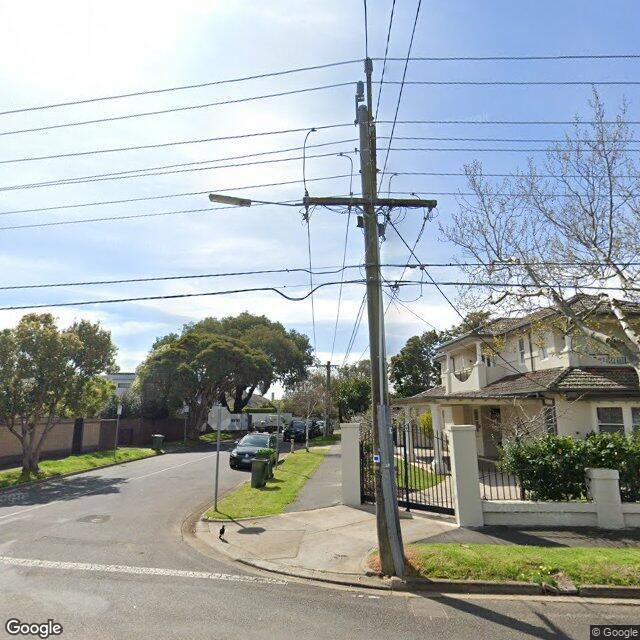HV-transmission: (354, 58, 372, 124)
crossarm: (304, 197, 437, 207), (369, 123, 377, 200), (314, 364, 338, 368)
streetlight: (209, 194, 304, 208)
timber-pole: (358, 105, 405, 576), (325, 361, 330, 439)
